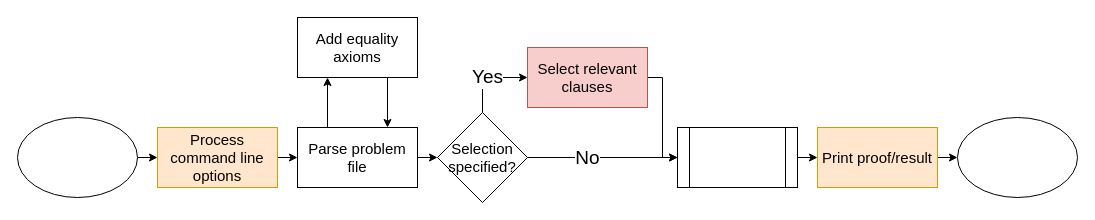
The diagram is 1095 pixels wide and 220 high, and some of its shapes have lost their labels. Each missing label, with the centre of its shape:
"End" belongs at [1017,157].
"Given Clause Algorithm" belongs at [737,157].
"Start" belongs at [77,157].
